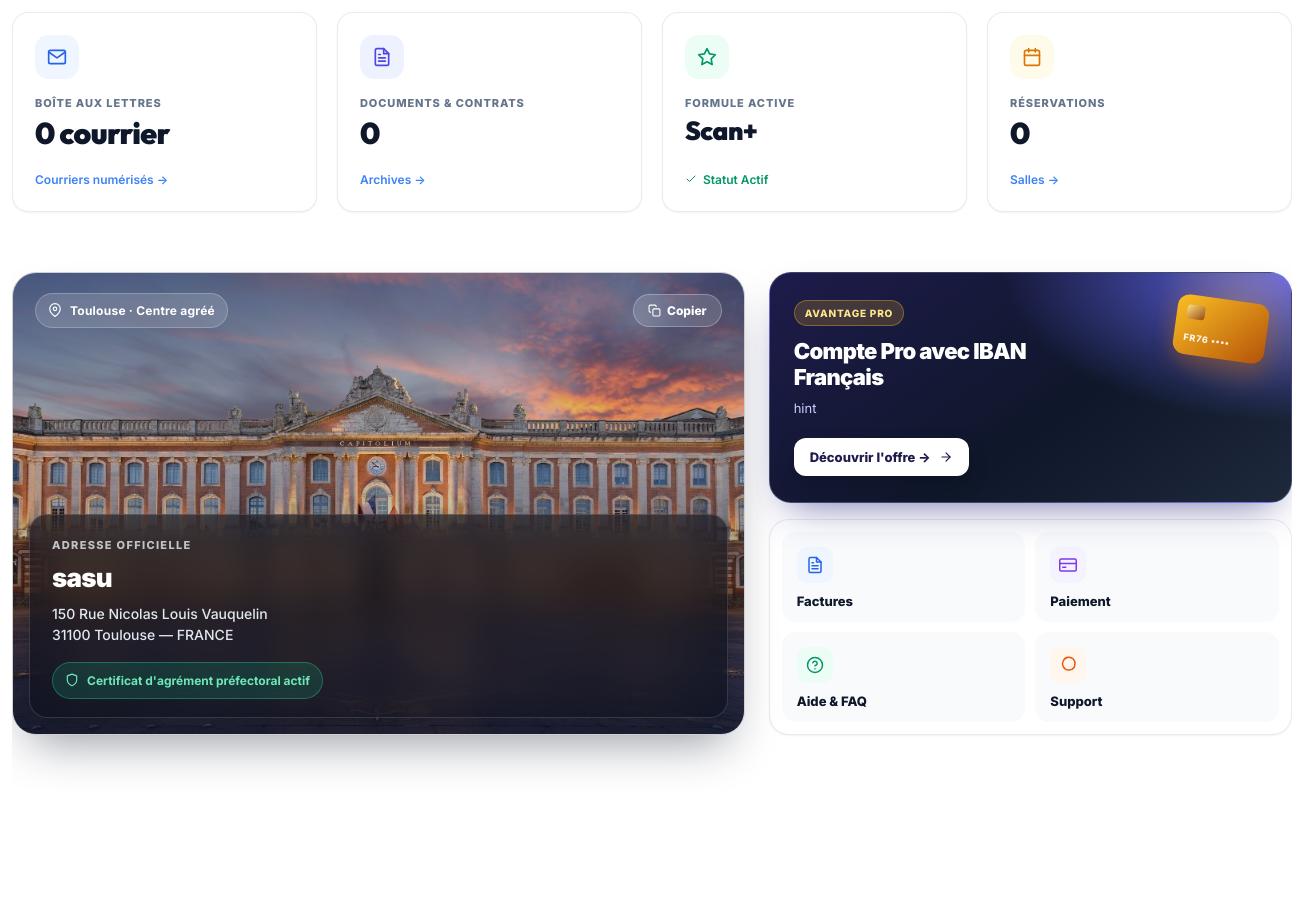
Scenario: Overview dashboard › copie l’adresse officielle sans alerte
The width and height of the screenshot is (1304, 912).
Click the button "Copier" at (677, 310), box [633,294,722,327]
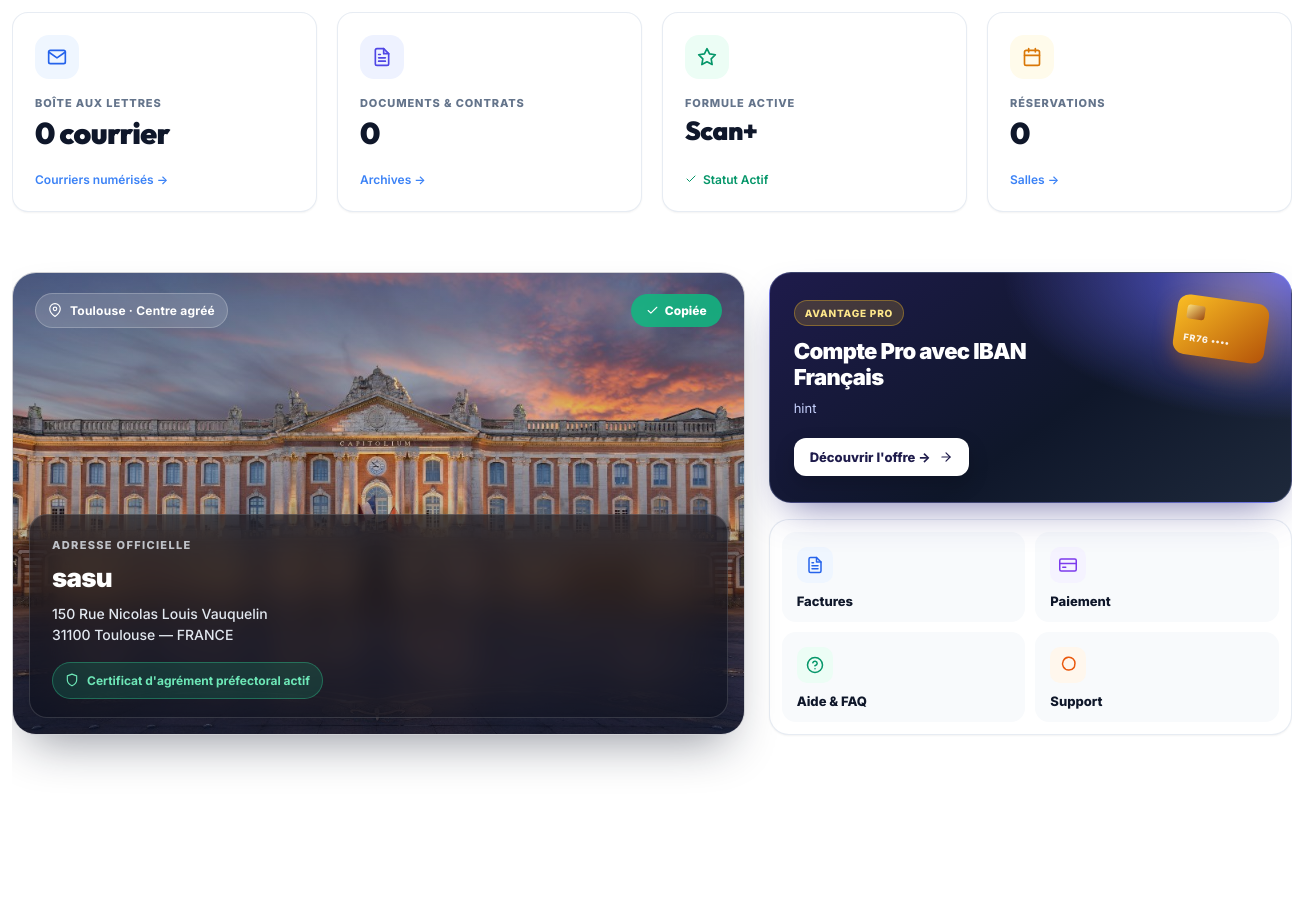
Check: the button "Copiée" is shown, box [631,294,722,327]
